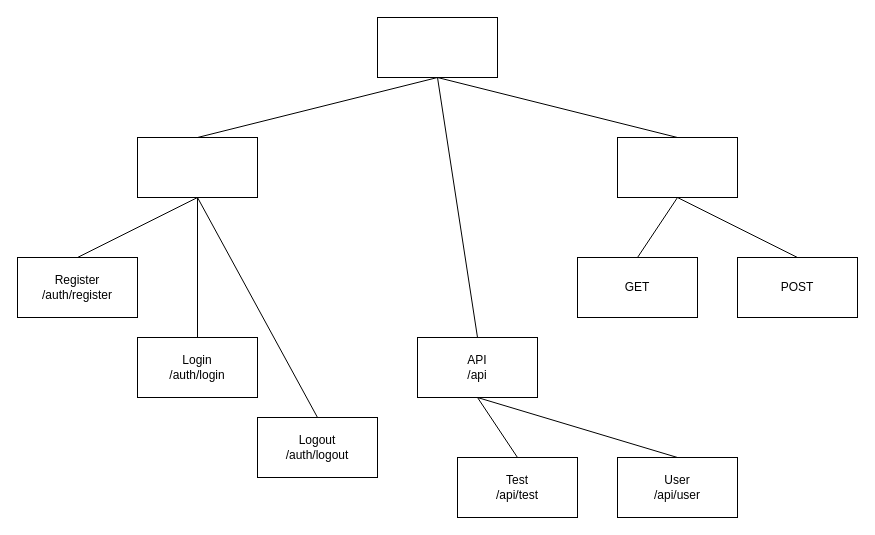
The diagram is 875 pixels wide and 535 high, and some of its shapes have lost their labels. Each missing label, with the centre of its shape:
Auth /auth: (197,167)
Backend: (437,47)
Catchall /*: (677,167)
